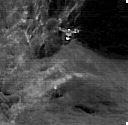Target: (58, 26, 80, 40)
